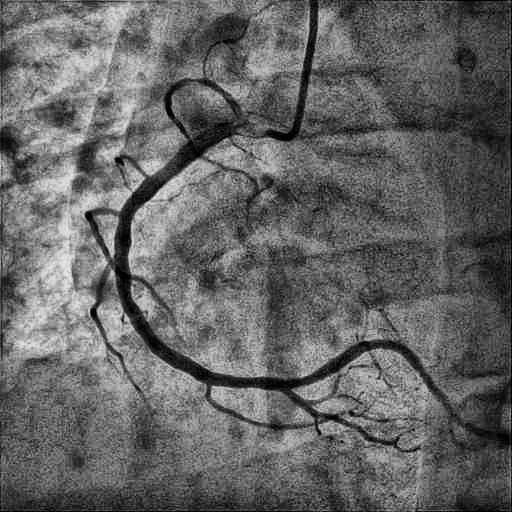pborca: (281, 340, 482, 435)
pda: (279, 380, 425, 452)
rca: (114, 122, 280, 391)
